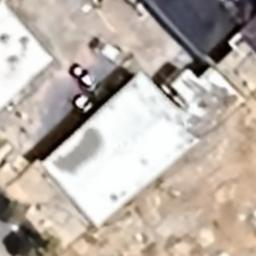sedan: (92, 36, 132, 68), (69, 64, 97, 92)
